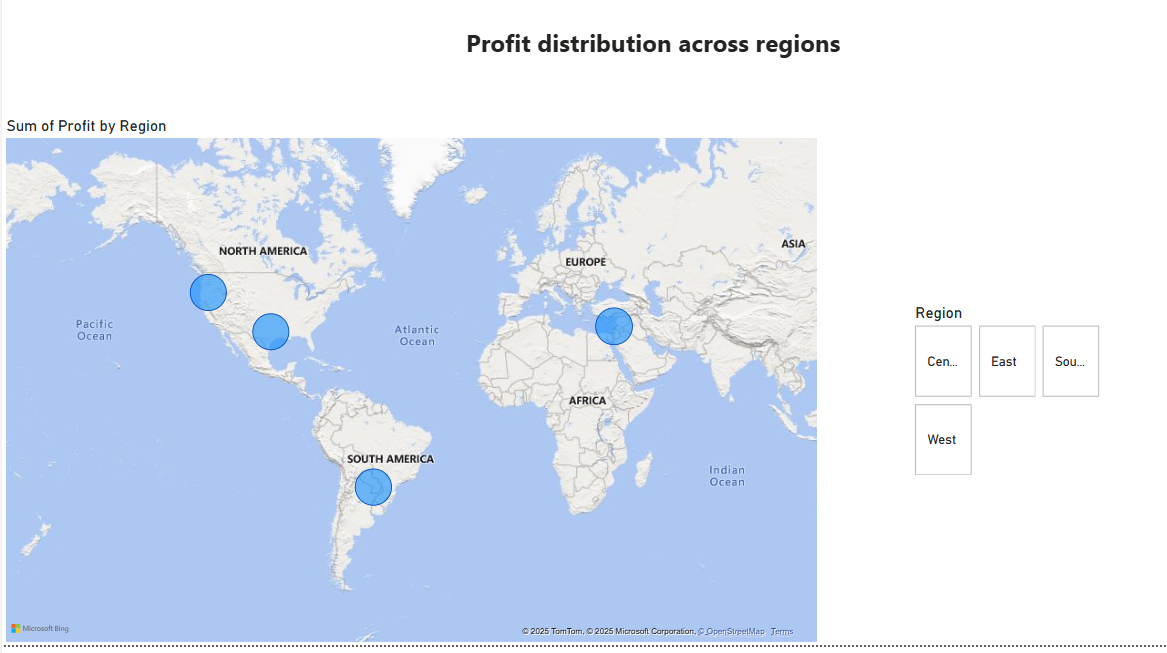

What the dashboard file says about the page in this screenshot:
{"tool":"powerbi","page":{"name":"Page 3","canvas":[1280,720],"ordinal":2},"visuals":[{"type":"map","fields":{"Category":["Sheet1.Region"],"Size":["Sum(Sheet1.Profit)"]},"box":[0,138.6,898.8,581.8],"z":0},{"type":"advancedSlicerVisual","fields":{"Values":["Sheet1.Region"]},"box":[997.6,344.4,212.7,194.9],"z":1000},{"type":"textbox","box":[317,34.3,795.9,104.3],"z":2000}]}

Visuals, with their boxes in screenshot pixels (x1, y1, x2, y2), scaled from the page's 1280x720 canvas onto the 1167x653 screenshot:
map - Sheet1.Region x Sum(Sheet1.Profit): crop(0, 126, 819, 652)
advancedSlicerVisual - Sheet1.Region: crop(910, 312, 1103, 489)
textbox: crop(289, 31, 1015, 126)
